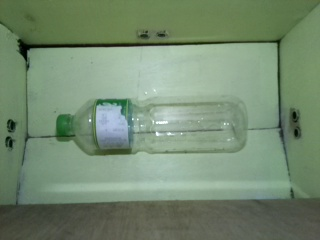bottle: (55, 97, 248, 155)
